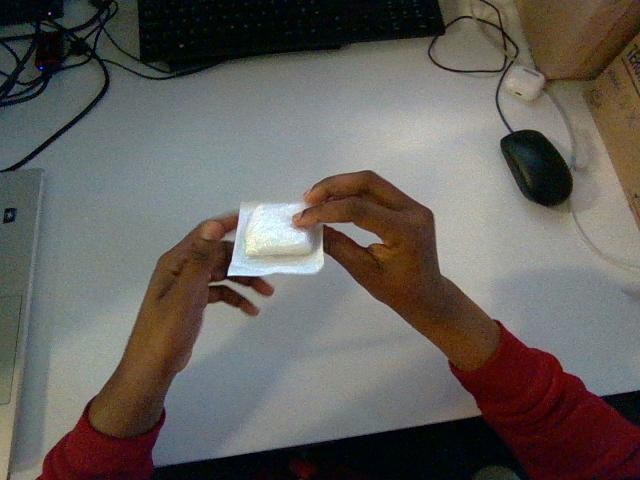gauze: (228, 202, 323, 275), (245, 204, 312, 256)
